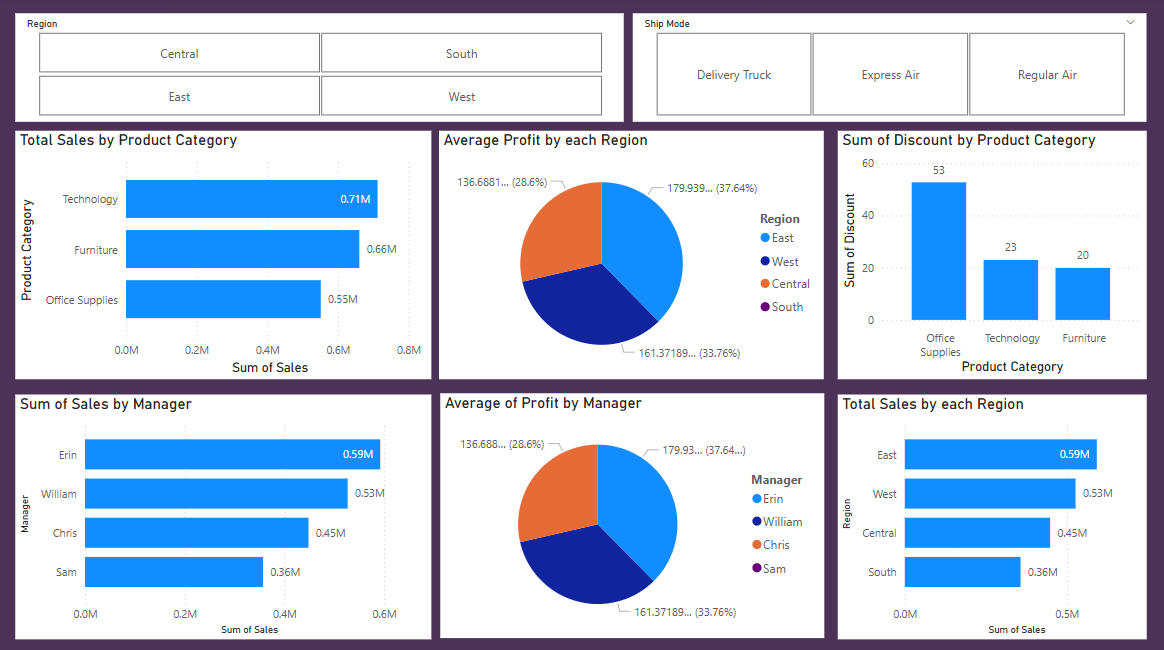

The page's visual inventory and layout, read from the dashboard file:
{"tool":"powerbi","page":{"name":"Dashboard2","canvas":[1280,720],"ordinal":1},"visuals":[{"type":"barChart","title":"Total Sales by Product Category","fields":{"Y":["Sum(Orders.Sales)"],"Category":["Orders.Product Category"]},"box":[17.8,146.8,456.9,273.1],"z":0},{"type":"barChart","fields":{"Category":["Users.Manager"],"Y":["Sum(Orders.Sales)"]},"box":[17.8,436.4,456.9,269],"z":1000},{"type":"pieChart","title":"Average Profit by each Region","fields":{"Category":["Orders.Region"],"Y":["Avg(Orders.Profit)"]},"box":[482.6,147.2,422.3,272.7],"z":2000},{"type":"pieChart","fields":{"Category":["Users.Manager"],"Y":["Avg(Orders.Profit)"]},"box":[484.4,435,421.3,269],"z":3000},{"type":"columnChart","fields":{"Y":["Sum(Orders.Discount)"],"Category":["Orders.Product Category"]},"box":[920.5,147.2,339,272.7],"z":4000},{"type":"barChart","title":"Total Sales by each Region","fields":{"Y":["Sum(Orders.Sales)"],"Category":["Orders.Region"]},"box":[920.8,436.4,338.9,269],"z":5000},{"type":"slicer","fields":{"Values":["Orders.Region"]},"box":[17.8,17.8,668.3,119.4],"z":6000},{"type":"slicer","fields":{"Values":["Orders.Ship Mode"]},"box":[695.7,17.8,564,119.4],"z":7000}]}

Visuals, with their boxes in screenshot pixels (x1, y1, x2, y2), scaled from the page's 1280x720 canvas onto the 1164x650 screenshot:
"Total Sales by Product Category" barChart: select_region(16, 133, 432, 379)
barChart - Users.Manager x Sum(Orders.Sales): select_region(16, 394, 432, 637)
"Average Profit by each Region" pieChart: select_region(439, 133, 823, 379)
pieChart - Users.Manager x Avg(Orders.Profit): select_region(441, 393, 824, 636)
columnChart - Sum(Orders.Discount) x Orders.Product Category: select_region(837, 133, 1145, 379)
"Total Sales by each Region" barChart: select_region(837, 394, 1146, 637)
slicer - Orders.Region: select_region(16, 16, 624, 124)
slicer - Orders.Ship Mode: select_region(633, 16, 1146, 124)
